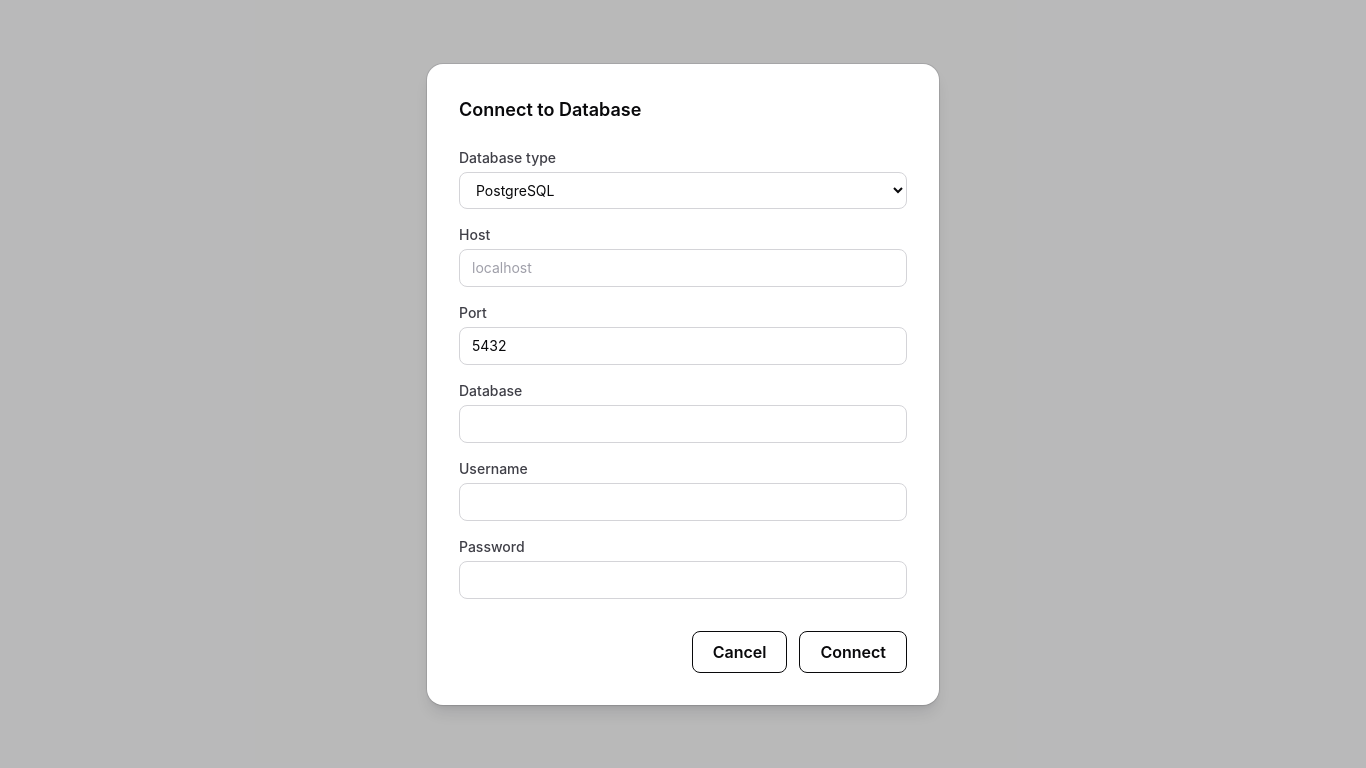
Test: ConnectionDialog › shows SQLite file path field when SQLite is selected
Select "SQLite" in the dropdown labelled "Database type" at x=683, y=190, box [459,172,907,208]
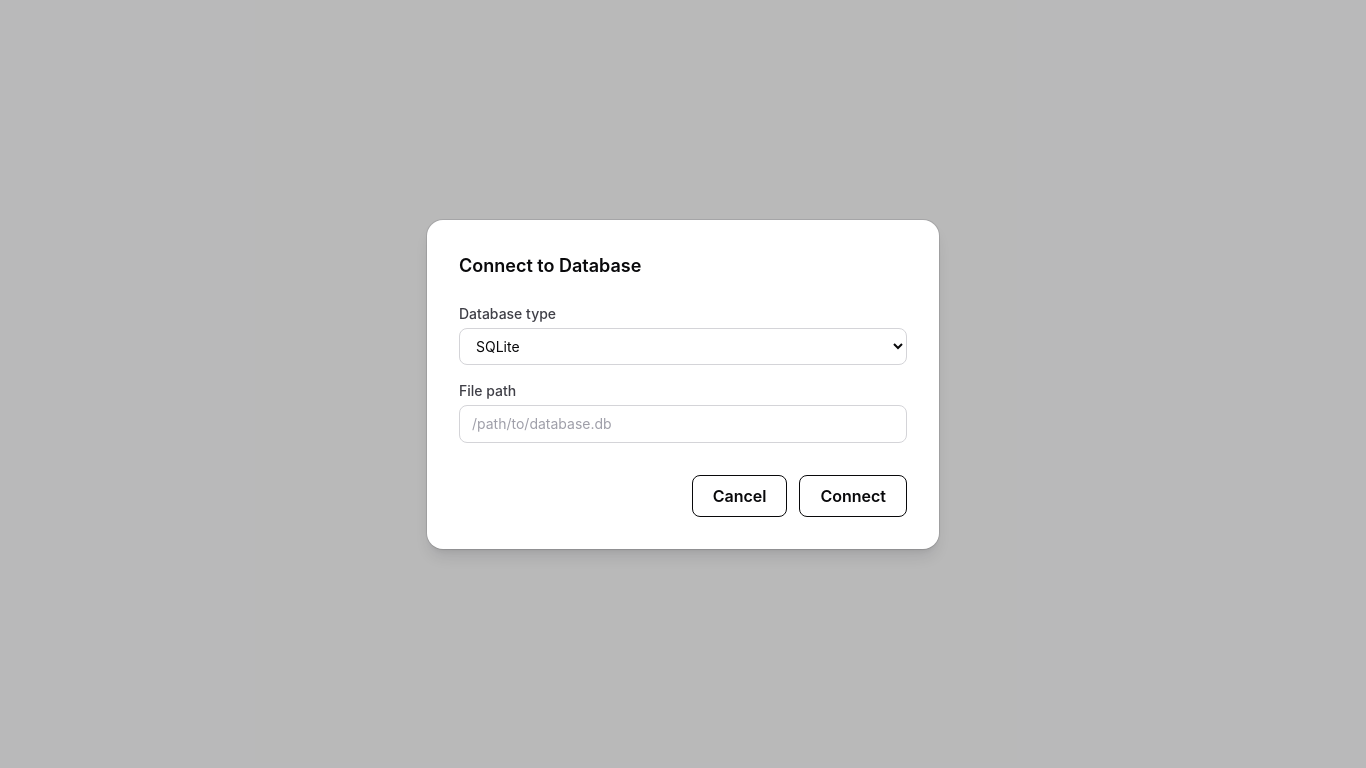
expect the field labelled "File path" is shown: met, box [459,404,907,442]
expect the label labelled "Host" is gone: met
expect the label labelled "Port" is gone: met
